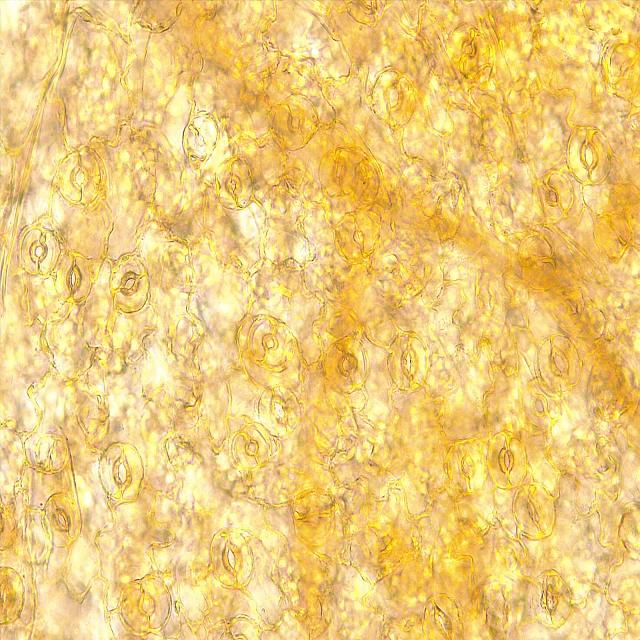Stomata: (118, 574, 174, 636), (565, 125, 614, 188), (207, 528, 255, 592), (247, 314, 297, 374), (98, 439, 144, 504), (322, 334, 371, 394), (271, 92, 320, 152), (292, 485, 338, 548), (386, 329, 431, 393), (536, 334, 584, 394), (370, 68, 418, 128), (511, 480, 557, 542), (56, 148, 104, 206), (332, 208, 380, 266), (444, 22, 492, 80), (486, 429, 528, 492), (109, 254, 151, 316), (530, 169, 577, 224), (532, 569, 574, 630), (517, 232, 558, 294), (256, 383, 302, 438), (444, 439, 487, 496), (519, 377, 563, 431), (42, 491, 83, 548), (317, 145, 360, 199), (215, 154, 255, 212), (18, 225, 62, 277), (231, 420, 273, 472), (53, 251, 93, 305), (422, 592, 467, 640), (606, 41, 640, 98), (181, 114, 220, 163), (0, 565, 26, 627), (34, 432, 70, 473)
